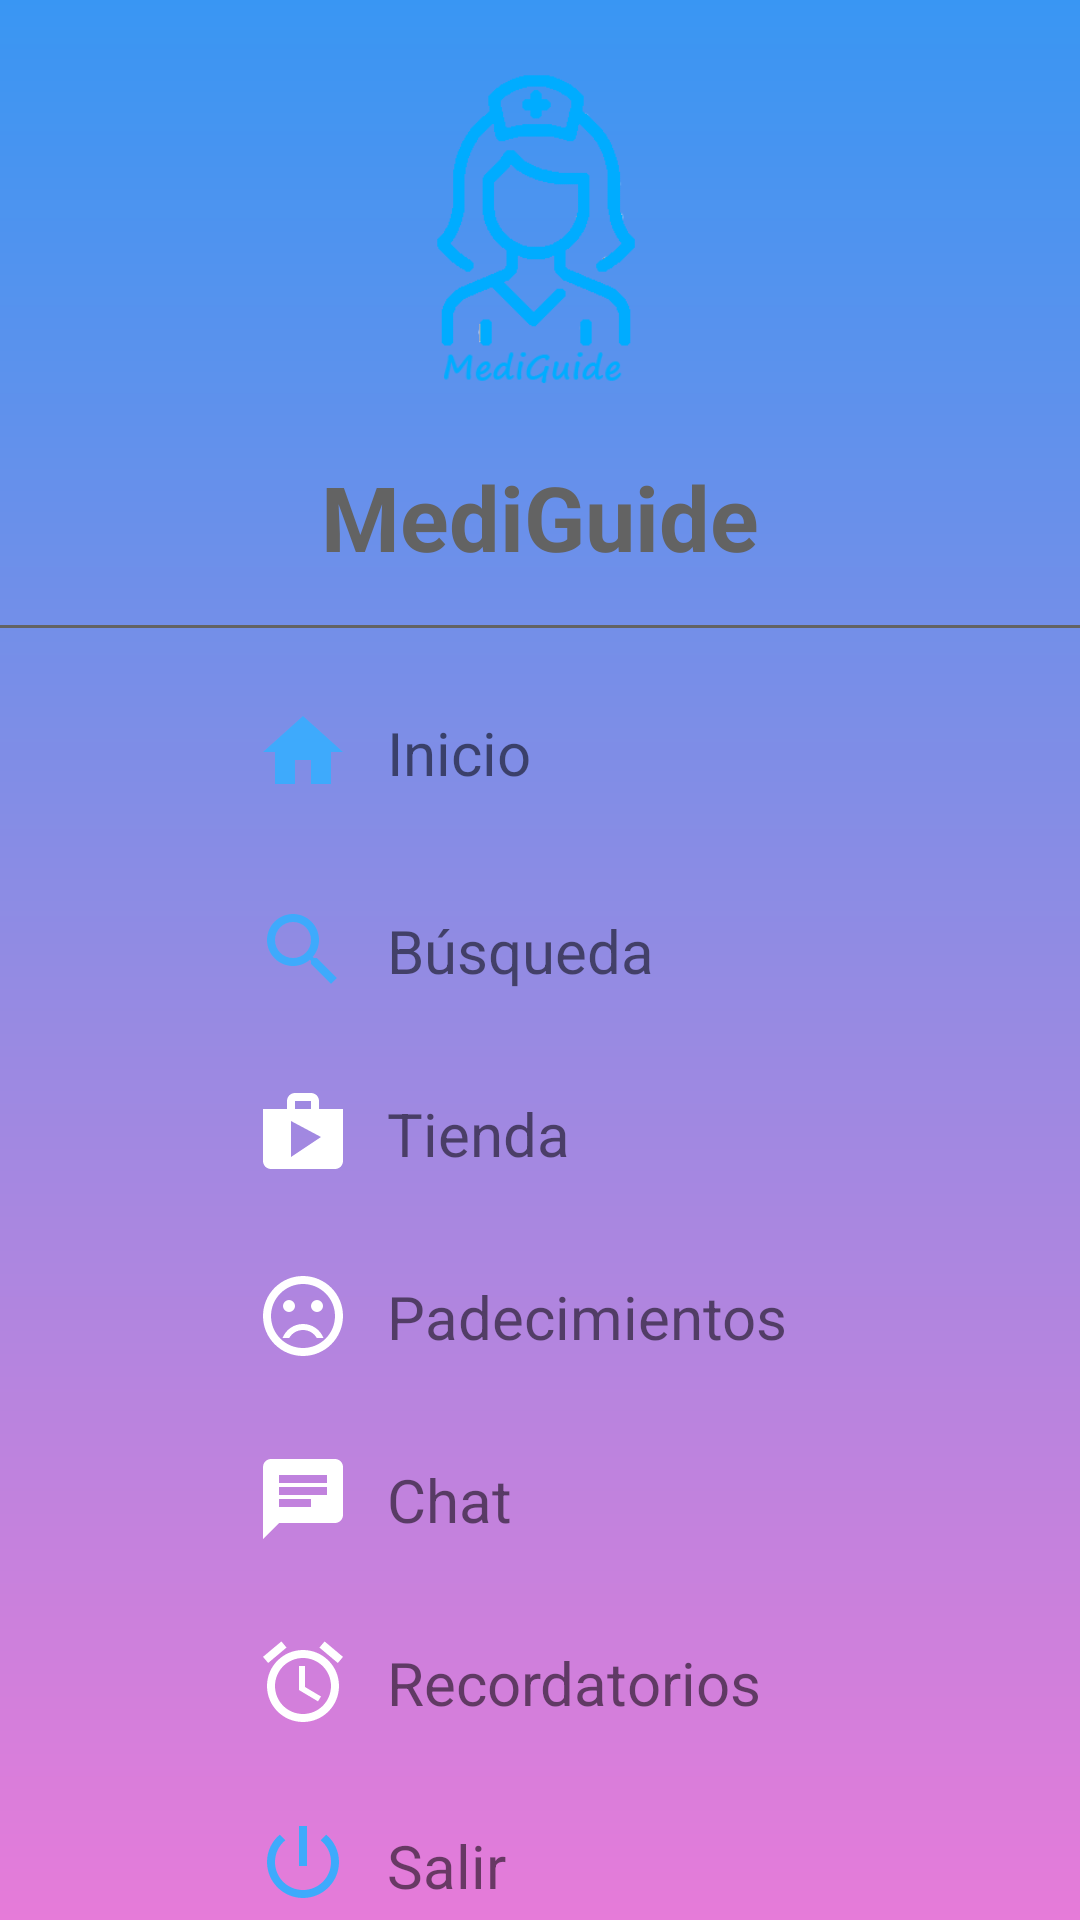

Screen size 1080*1920. Icon name, then its box in pixels as box(x1, y1, x2, y2):
home: box(264, 716, 342, 784)
search: box(267, 914, 337, 984)
triste: box(263, 1276, 343, 1356)
